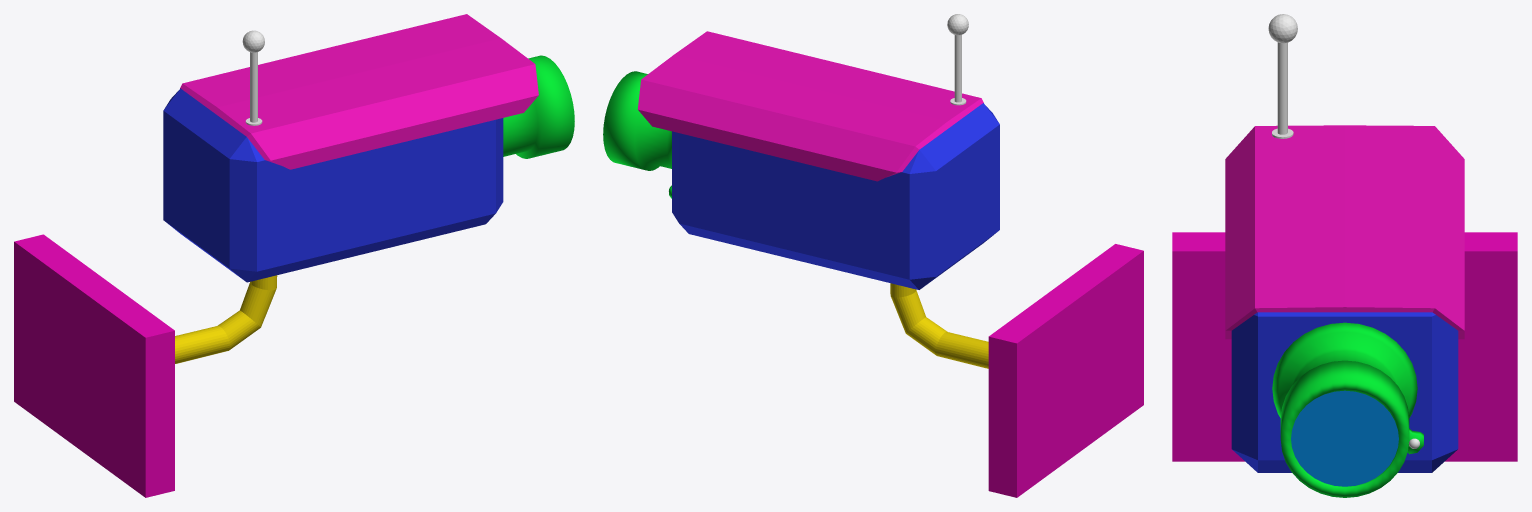
File: camera.fbx
3 views of the same model, side by side, from view 1: azimuth 30°, elevation 25°; view 2: azimuth 150°, elevation 25°; view 3: azimuth 270°, elevation 25° (orthographic). The views are drawn at different scales.
Visible parts, largest first — view 1: camera0, camera cover, camera base, camera filter, camera tube holder, anthena; view 2: camera0, camera cover, camera base, camera filter, camera tube holder, anthena; view 3: camera cover, camera base, camera0, camera filter, camera lense, anthena.
Boxes of the visible parts, bbox=[...] form: camera0: bbox=[163, 88, 503, 282]; camera cover: bbox=[180, 14, 538, 169]; camera base: bbox=[14, 234, 174, 497]; camera filter: bbox=[503, 55, 574, 158]; camera tube holder: bbox=[175, 275, 277, 363]; anthena: bbox=[242, 30, 264, 125]; camera0: bbox=[672, 103, 999, 289]; camera cover: bbox=[637, 31, 983, 181]; camera base: bbox=[988, 244, 1143, 497]; camera filter: bbox=[603, 71, 671, 198]; camera tube holder: bbox=[890, 283, 988, 368]; anthena: bbox=[947, 14, 968, 105]; camera cover: bbox=[1225, 125, 1464, 339]; camera base: bbox=[1172, 232, 1517, 461]; camera0: bbox=[1231, 312, 1458, 472]; camera filter: bbox=[1272, 322, 1423, 497]; camera lense: bbox=[1291, 390, 1398, 486]; anthena: bbox=[1268, 14, 1297, 138].
Size of the model in its own units: 277 by 224 by 134.
